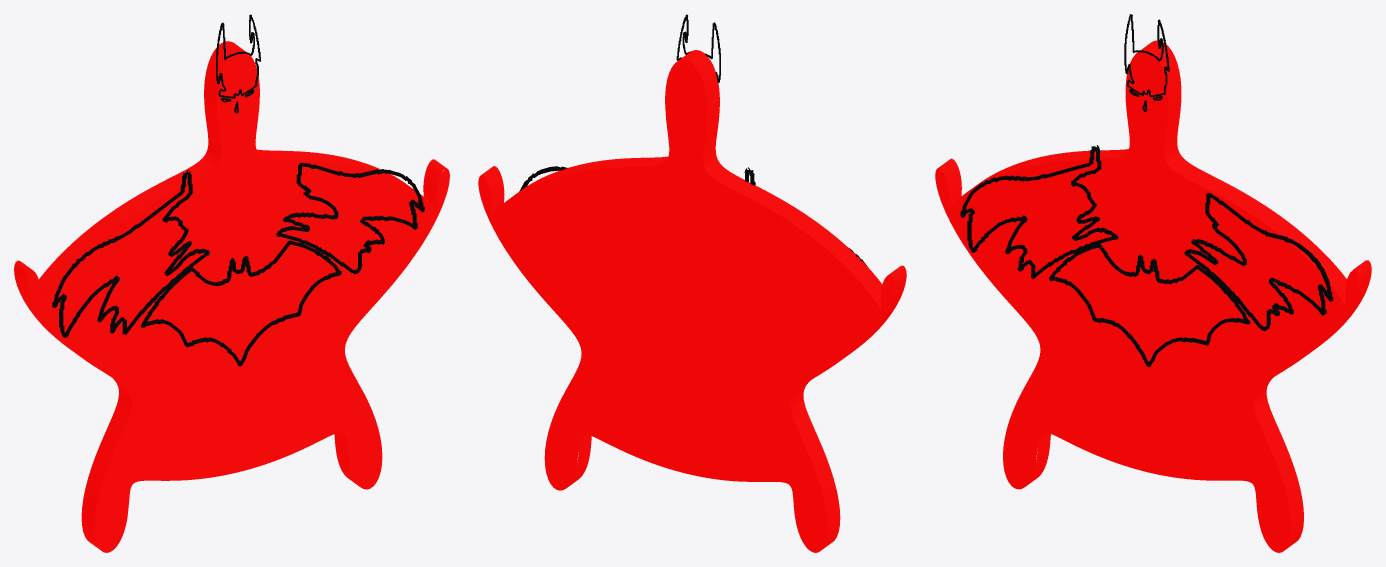
3 views of the same model, side by side, from view 1: azimuth 30°, elevation 25°; view 2: azimuth 150°, elevation 25°; view 3: azimuth 330°, elevation 25° (orthographic).
Size of the model in its own units: 0.9416 by 1.07 by 0.0545.
